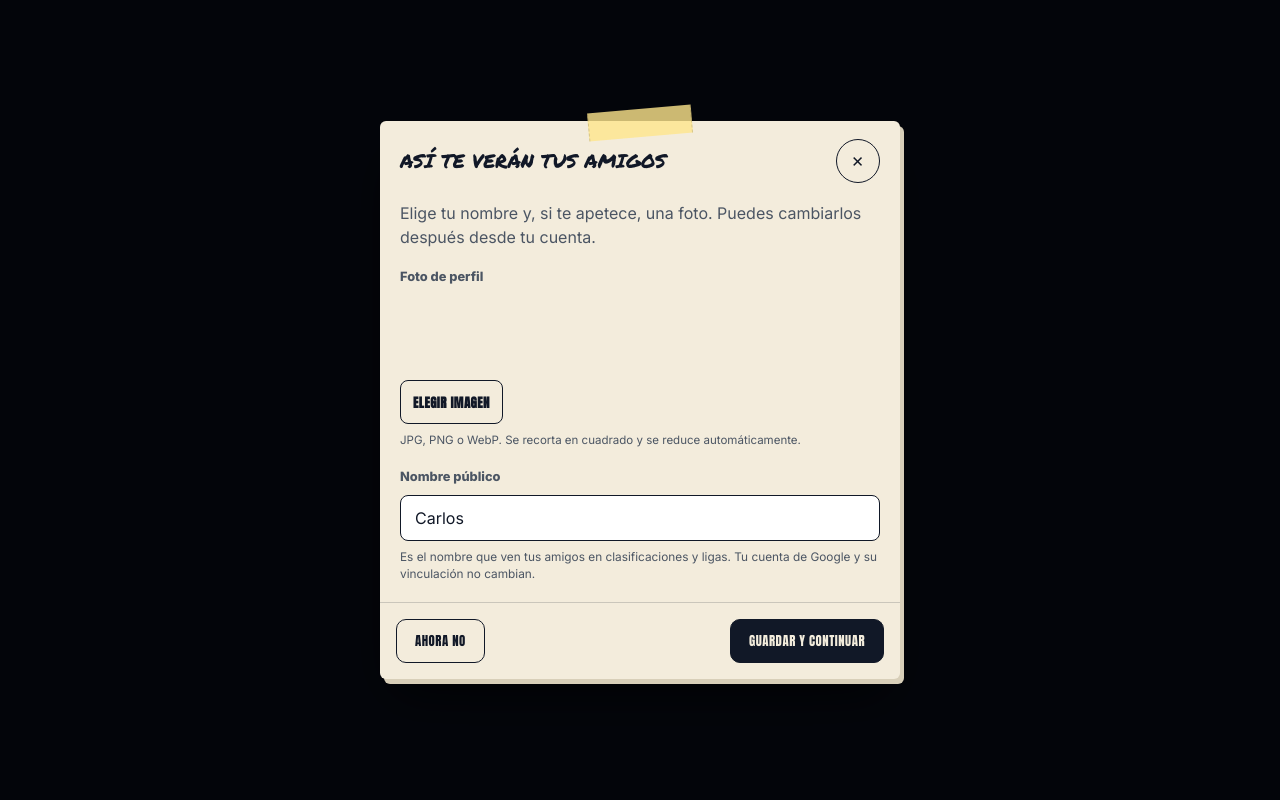
Scenario: permite reintentar si no se puede guardar la elección
The image size is (1280, 800).
Click the button "Ahora no" at (440, 641), box x1=396 y1=619 x2=485 y2=663
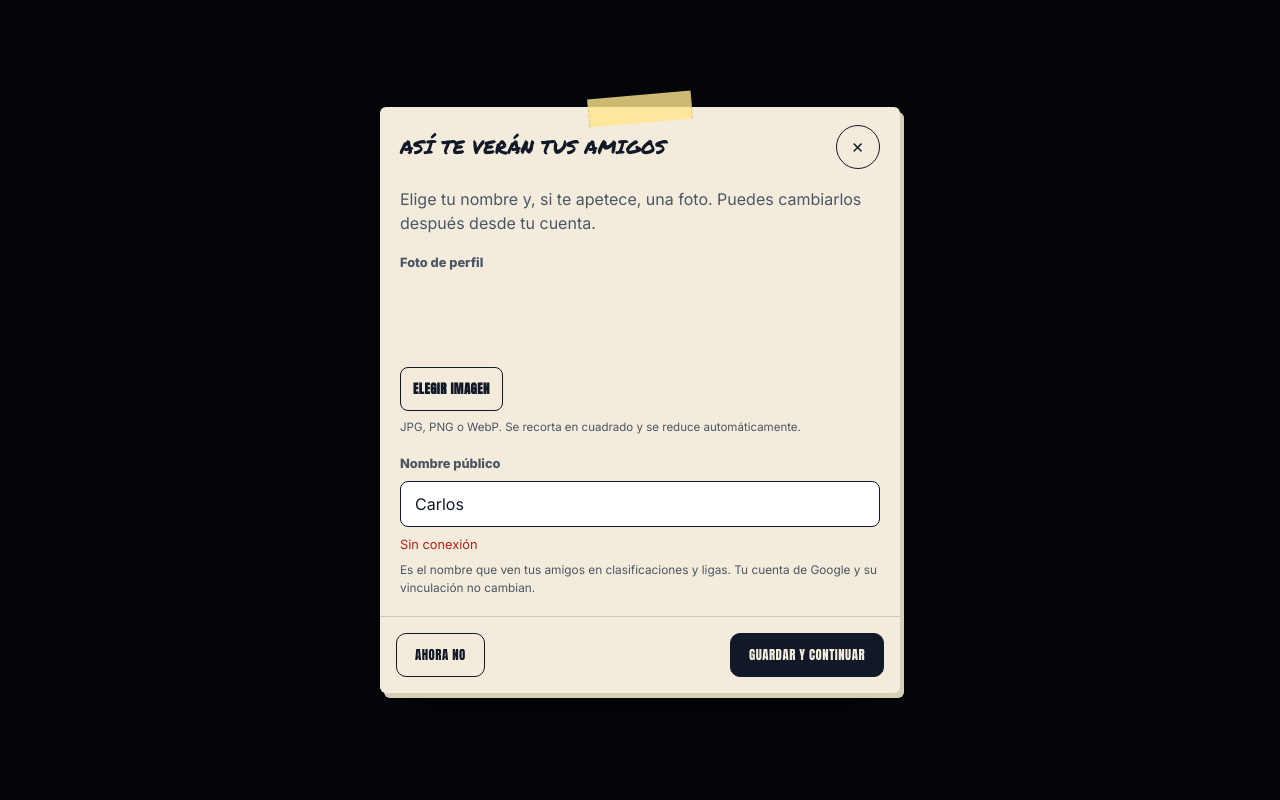
Now the message "Sin conexión" is shown, box x1=400 y1=537 x2=478 y2=552
